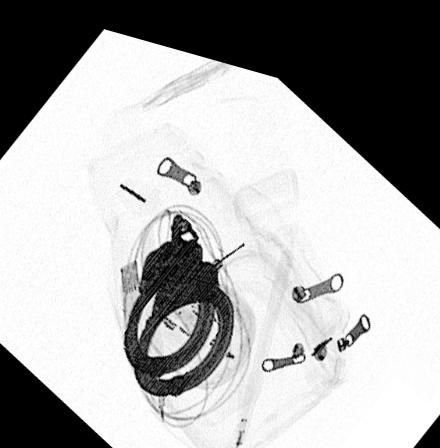HandCuffs: (123, 204, 238, 389)
